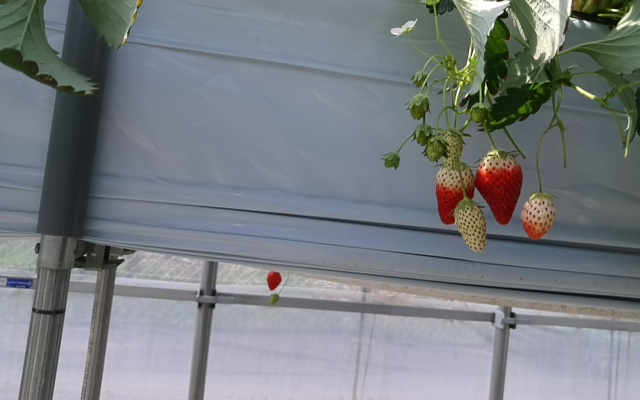GreenStrawberry: (453, 199, 492, 257), (519, 190, 557, 242), (441, 127, 465, 165), (406, 92, 430, 121), (424, 138, 448, 165), (469, 101, 488, 126), (413, 123, 431, 147), (381, 149, 401, 170)
MatureStrawberry: (473, 149, 522, 225), (434, 160, 476, 228)
